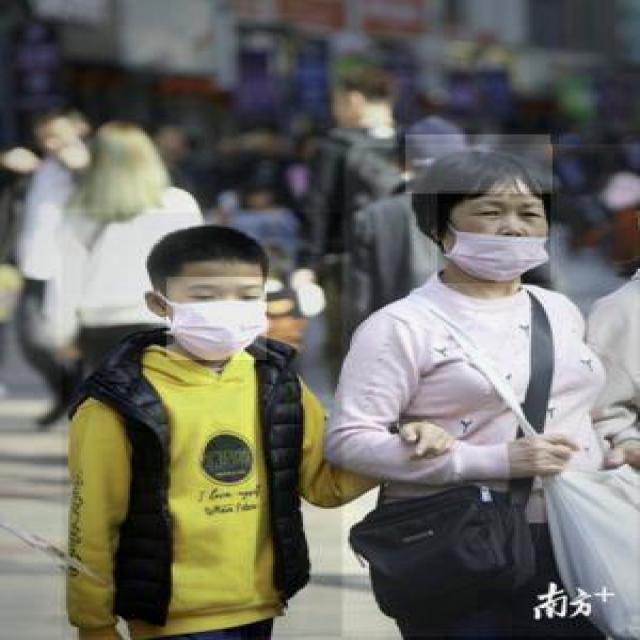face_mask: (438, 190, 550, 284), (166, 277, 267, 360)
hand_noglove: (501, 425, 576, 484), (387, 416, 458, 462)
head_nohelmet: (406, 134, 552, 193), (143, 221, 273, 278)
person: (343, 144, 638, 640), (62, 213, 343, 638)
